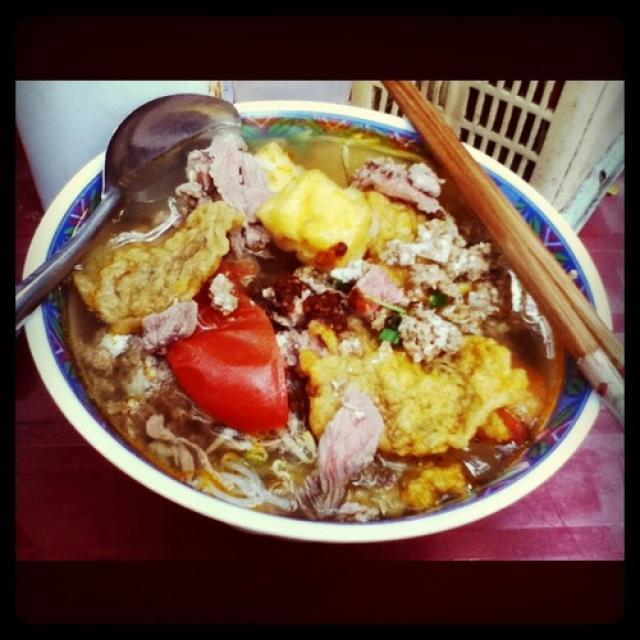面条主食: (25, 103, 603, 538)
